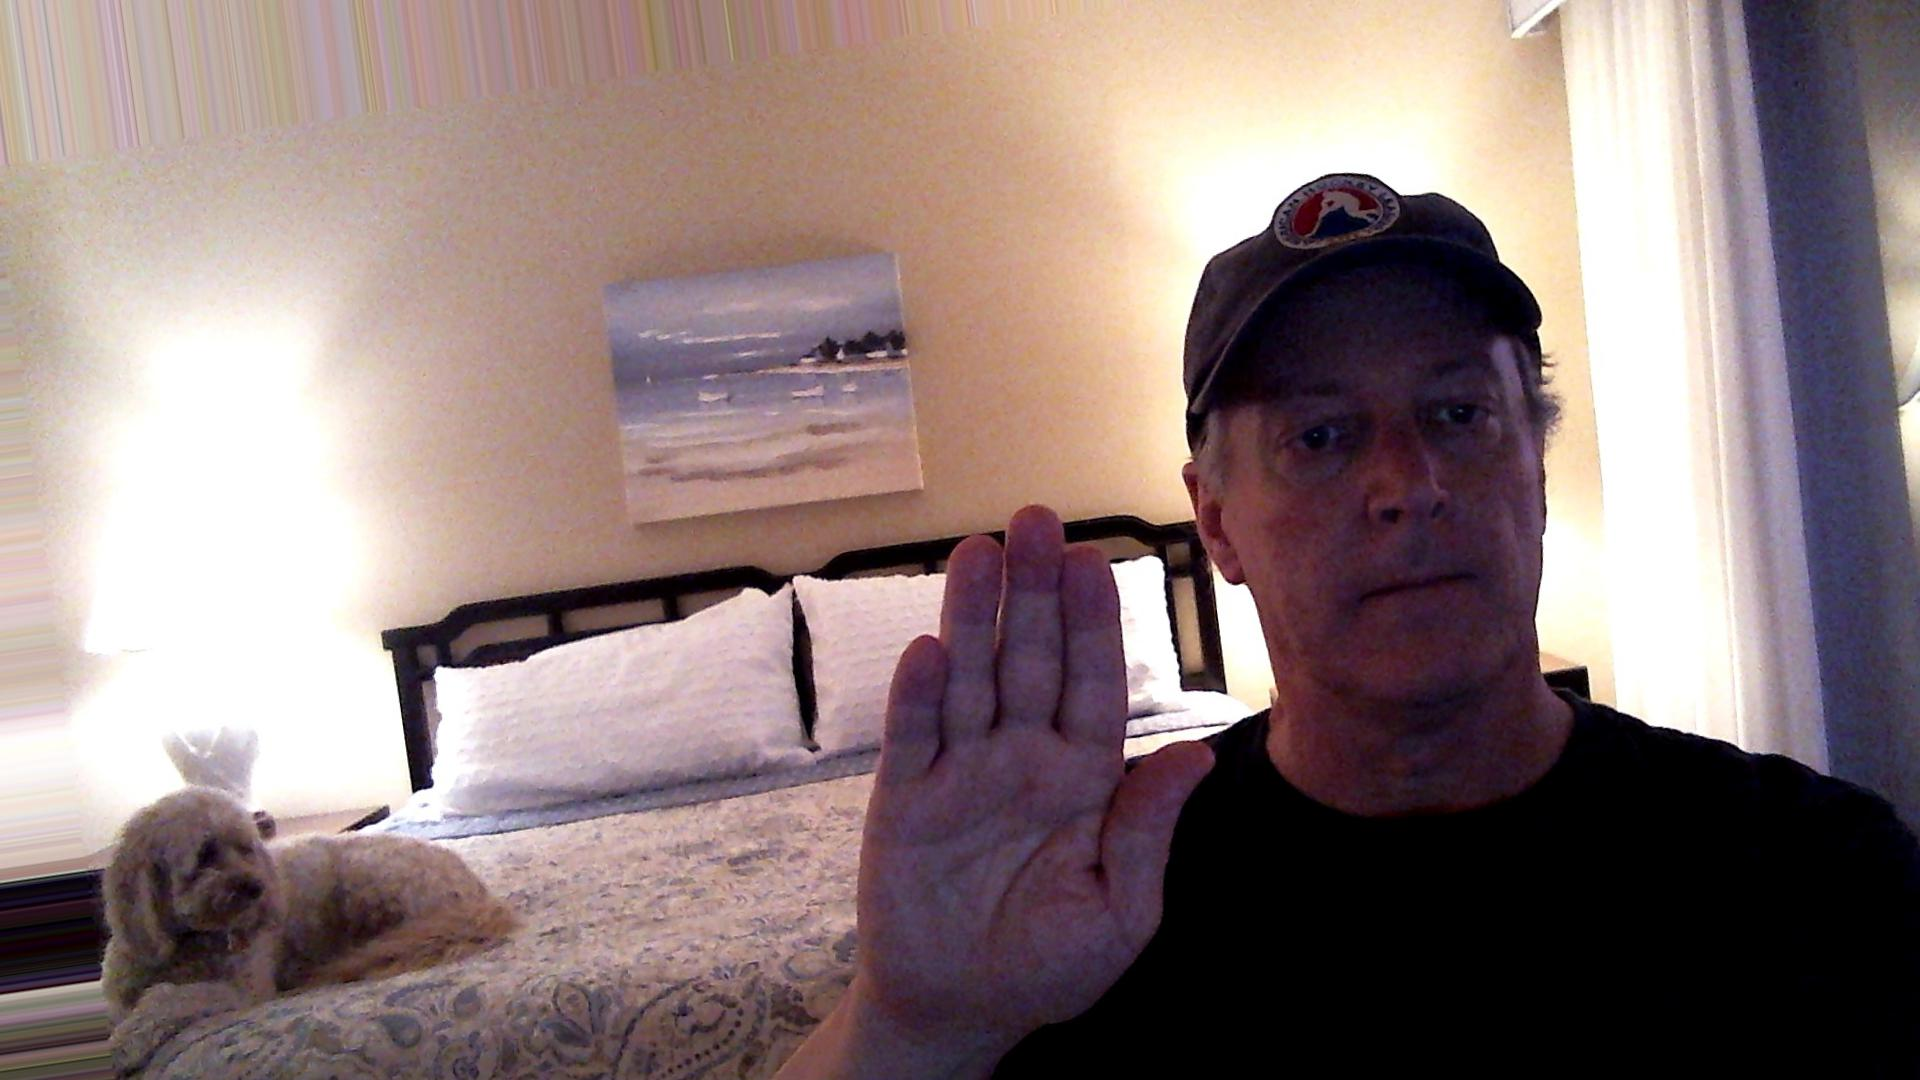Hello: (837, 492, 1229, 1058)
